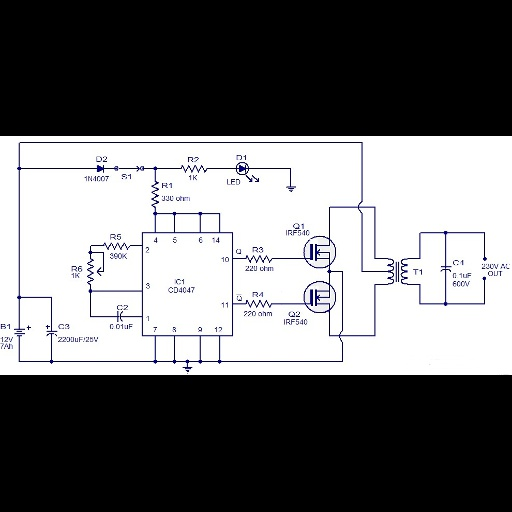battery: (13, 323, 33, 340)
firstdiode: (93, 162, 107, 174)
firstled: (237, 162, 262, 181)
firstpolarcapacitor: (43, 323, 58, 338)
mos: (309, 286, 331, 309), (309, 240, 330, 264)
secondresistance: (244, 296, 274, 310), (148, 178, 161, 210), (243, 252, 274, 265), (101, 239, 133, 251), (178, 162, 209, 174)
transformer: (384, 257, 410, 285)
